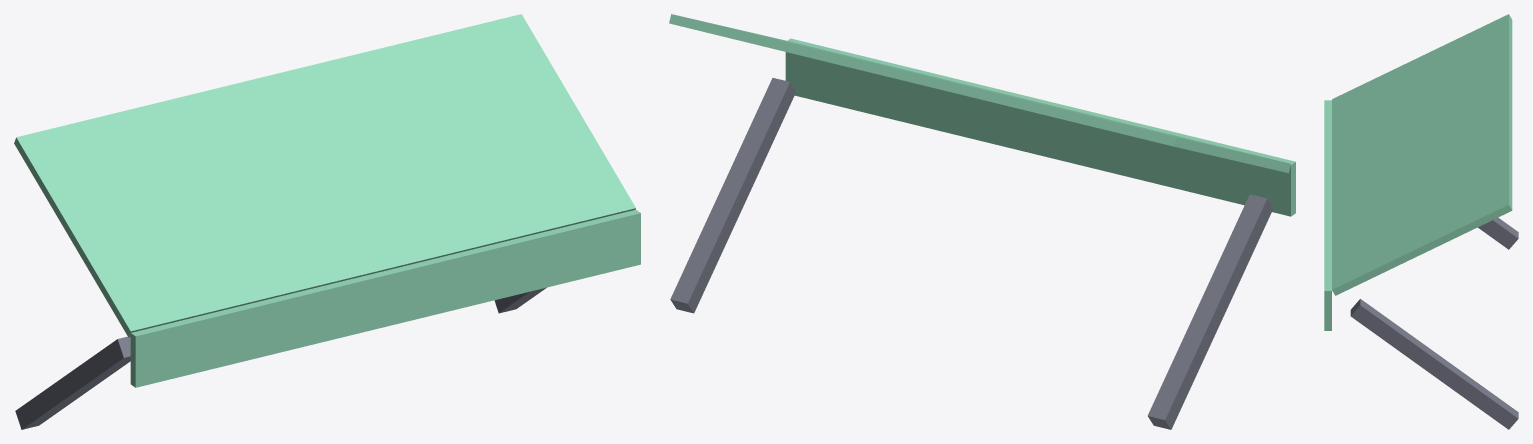
The model's file is awning.glb.
3 views of the same model, side by side, from view 1: azimuth 30°, elevation 25°; view 2: azimuth 150°, elevation 25°; view 3: azimuth 270°, elevation 25° (orthographic). The views are drawn at different scales.
Parts seen in each view (by area): view 1: awning; view 2: awning; view 3: awning.
Boxes of the visible parts, <box> form: awning: <box>14,14,640,429</box>; awning: <box>669,14,1295,429</box>; awning: <box>1324,14,1518,429</box>.
Size of the model in its own units: 0.72 by 0.4002 by 0.3101.
1 material, 1 textured.
